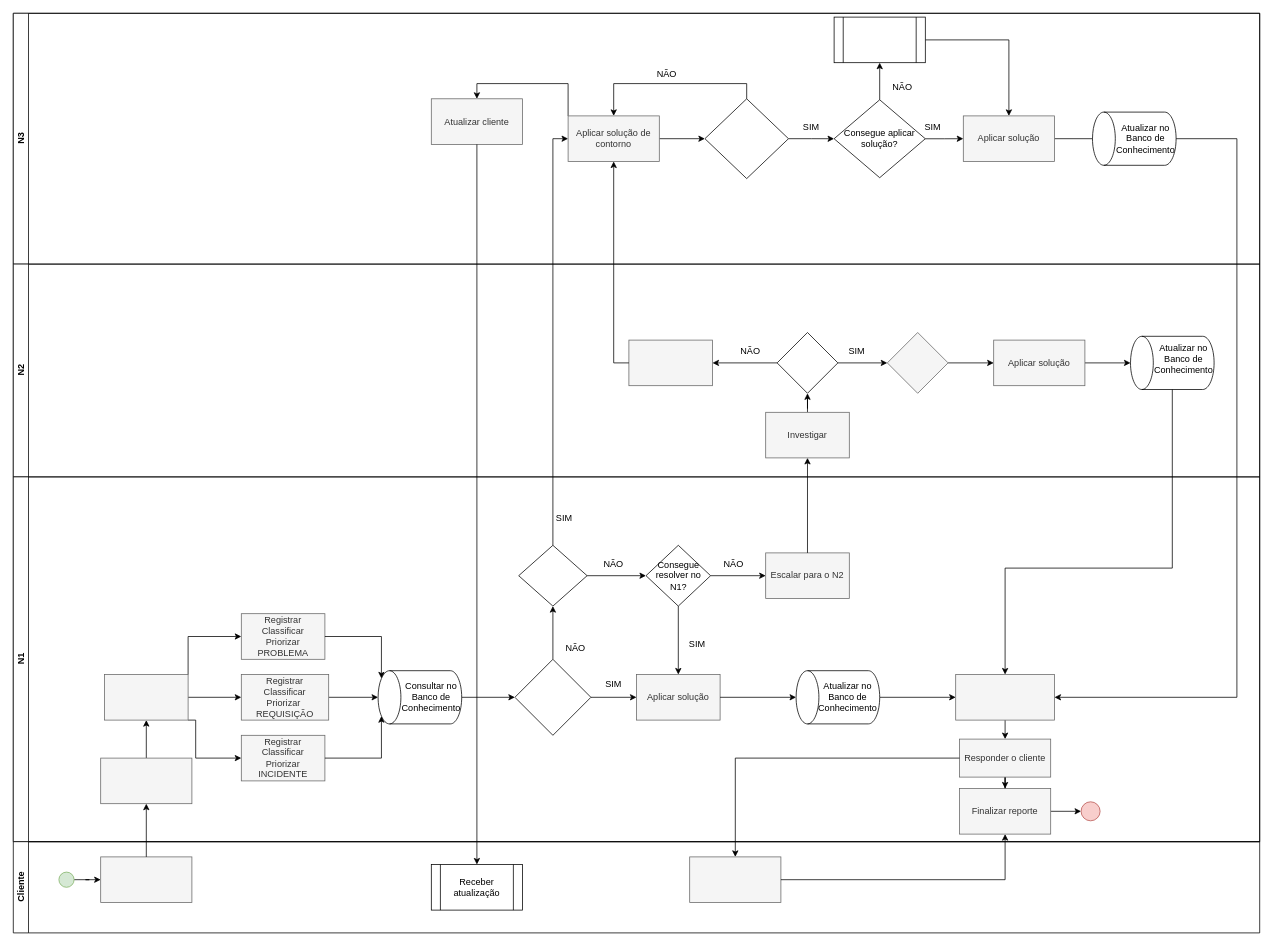
Some shapes in this 1273 by 946 pixel diagram are drawn without their labels. Here are the shapes that lost their labels. From the top down, the centre of each, then its label:
At (879,39): "Contatar fornecedor".
At (746,138): "Causa raiz identificada?".
At (670,362): "Escalar para o N3".
At (807,362): "consegue identificar a causa?".
At (917,362): "Consegue resolver no N2?".
At (552,575): "é problema?".
At (146,697): "Analisar chamado".
At (552,697): "já conhecido?".
At (1004,697): "Fechar registro".
At (146,780): "Receber chamado na ferramenta de suporte".
At (146,879): "Abrir chamado - ferramenta de suporte/email/website".
At (735,879): "Receber resolução do problema".
